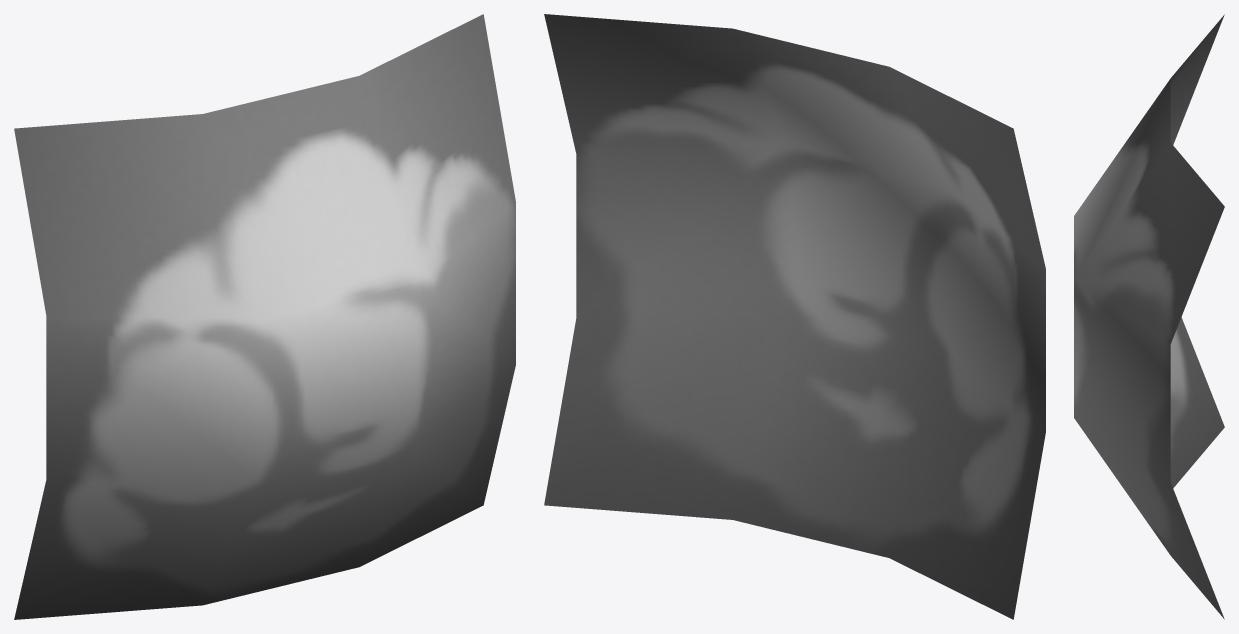
File: SMOKE.glb
3 renders of one model, left to right at view 1: azimuth 30°, elevation 25°; view 2: azimuth 150°, elevation 25°; view 3: azimuth 270°, elevation 25°, orthographic. The views are drawn at different scales.
Parts seen in each view (by area): view 1: FRAME_ROOT; view 2: FRAME_ROOT; view 3: FRAME_ROOT.
Boxes of the visible parts, x1=… form: FRAME_ROOT: x1=14, y1=14, x2=515, y2=619; FRAME_ROOT: x1=544, y1=14, x2=1045, y2=619; FRAME_ROOT: x1=1074, y1=14, x2=1224, y2=619.
Bounding box in the file's own units: 10 × 10 × 3.31.
1 material, 1 textured.
